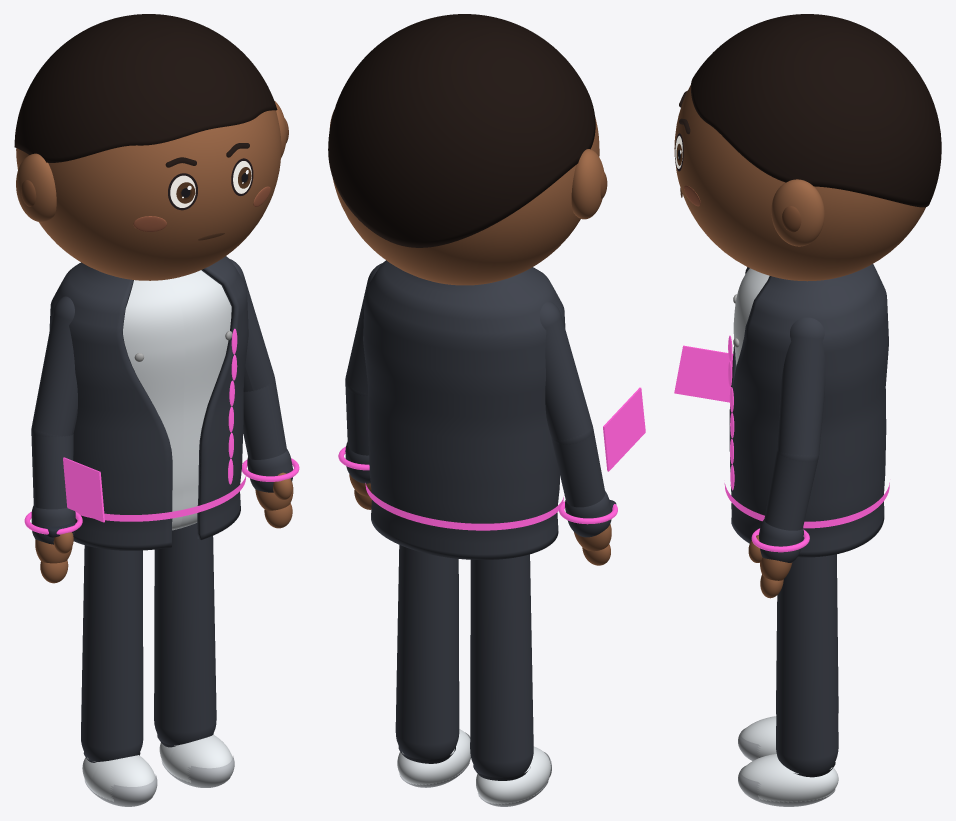
File: mens_2200_b.glb
The picture shows the model from 3 angles, left to right: view 1: azimuth 30°, elevation 25°; view 2: azimuth 150°, elevation 25°; view 3: azimuth 270°, elevation 25°; orthographic projection.
Visible parts, largest first — view 1: mens_2200_b_jas, mens_2200_b_haar, mens_2200_b_hoofd, mens_2200_b_romp, mens_2200_b_been_R, mens_2200_b_been_L, mens_2200_b_bovenarm_R, mens_2200_b_onderarm_L, mens_2200_b_onderarm_R, mens_2200_b_schoen_R, mens_2200_b_schoen_L, mens_2200_b_hologram (+8 smaller); view 2: mens_2200_b_jas, mens_2200_b_haar, mens_2200_b_been_R, mens_2200_b_been_L, mens_2200_b_hoofd, mens_2200_b_bovenarm_R, mens_2200_b_onderarm_R, mens_2200_b_schoen_R, mens_2200_b_hologram, mens_2200_b_schoen_L, mens_2200_b_oor_R, mens_2200_b_gloei_band0 (+3 smaller); view 3: mens_2200_b_haar, mens_2200_b_jas, mens_2200_b_hoofd, mens_2200_b_been_L, mens_2200_b_bovenarm_L, mens_2200_b_onderarm_L, mens_2200_b_schoen_L, mens_2200_b_hologram, mens_2200_b_oor_L, mens_2200_b_romp, mens_2200_b_manchet_L, mens_2200_b_schoen_R (+2 smaller).
Part boxes in pixels (x1,y1,x2,y2): mens_2200_b_jas: [49, 256, 248, 550]; mens_2200_b_haar: [14, 14, 277, 162]; mens_2200_b_hoofd: [16, 110, 281, 280]; mens_2200_b_romp: [123, 270, 231, 530]; mens_2200_b_been_R: [81, 545, 143, 761]; mens_2200_b_been_L: [154, 523, 216, 745]; mens_2200_b_bovenarm_R: [32, 296, 77, 436]; mens_2200_b_onderarm_L: [243, 380, 286, 459]; mens_2200_b_onderarm_R: [31, 430, 73, 509]; mens_2200_b_schoen_R: [82, 755, 155, 801]; mens_2200_b_schoen_L: [159, 734, 232, 782]; mens_2200_b_hologram: [63, 457, 104, 522]; mens_2200_b_jas: [363, 260, 565, 559]; mens_2200_b_haar: [328, 14, 595, 247]; mens_2200_b_been_R: [470, 554, 533, 777]; mens_2200_b_been_L: [395, 545, 459, 759]; mens_2200_b_hoofd: [332, 116, 599, 285]; mens_2200_b_bovenarm_R: [539, 301, 592, 443]; mens_2200_b_onderarm_R: [551, 428, 605, 507]; mens_2200_b_schoen_R: [476, 746, 550, 804]; mens_2200_b_hologram: [603, 387, 645, 471]; mens_2200_b_schoen_L: [397, 729, 470, 784]; mens_2200_b_oor_R: [571, 149, 604, 219]; mens_2200_b_gloei_band0: [365, 483, 563, 530]; mens_2200_b_haar: [691, 14, 941, 207]; mens_2200_b_jas: [729, 264, 888, 557]; mens_2200_b_hoofd: [674, 85, 925, 281]; mens_2200_b_been_L: [776, 554, 838, 774]; mens_2200_b_bovenarm_L: [777, 317, 825, 461]; mens_2200_b_onderarm_L: [764, 451, 818, 530]; mens_2200_b_schoen_L: [740, 754, 838, 802]; mens_2200_b_hologram: [674, 345, 733, 402]; mens_2200_b_oor_L: [771, 179, 824, 246]; mens_2200_b_romp: [733, 268, 769, 365]; mens_2200_b_manchet_L: [759, 519, 803, 562]; mens_2200_b_schoen_R: [740, 716, 776, 758].
Size of the model in its own units: 0.6697 by 1.81 by 0.5797.
